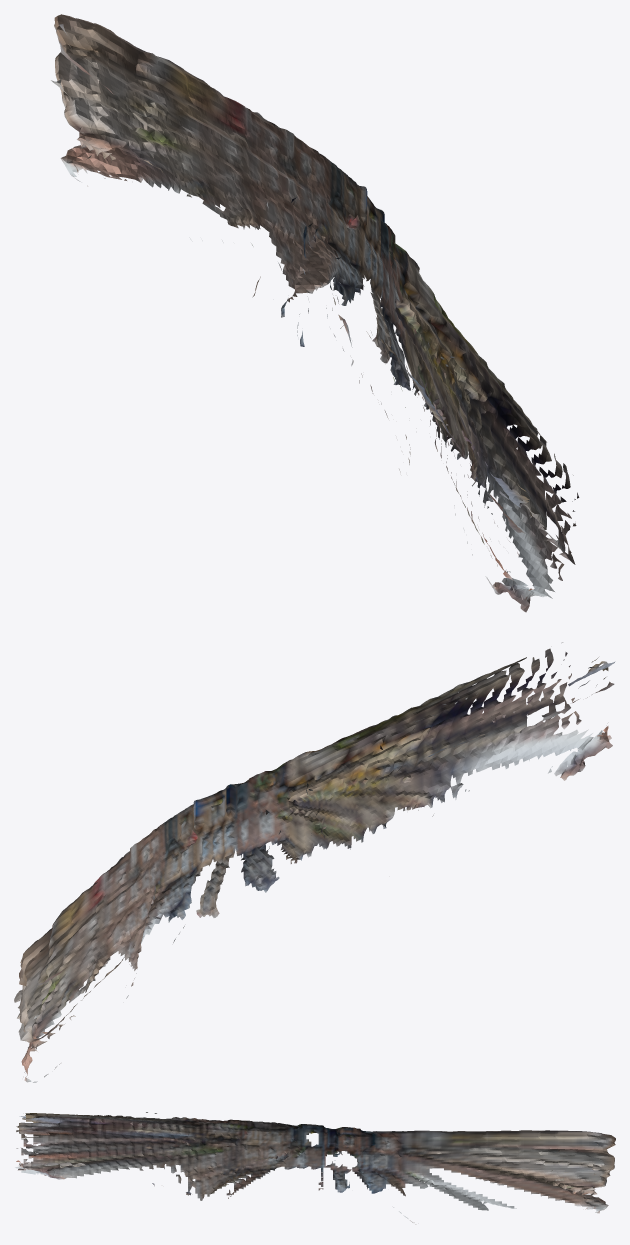
File: narrow_european_cobblestone_lane_collider.glb
3 renders of one model, top to bottom at view 1: azimuth 30°, elevation 25°; view 2: azimuth 150°, elevation 25°; view 3: azimuth 270°, elevation 25°, orthographic. The views are drawn at different scales.
Visible parts, largest first — view 1: world; view 2: world; view 3: world.
Boxes of the visible parts, <box> form: world: <box>51,14,579,612</box>; world: <box>14,642,615,1082</box>; world: <box>15,1112,615,1224</box>.
Bounding box in the file's own units: 8 × 6.65 × 41.22.
